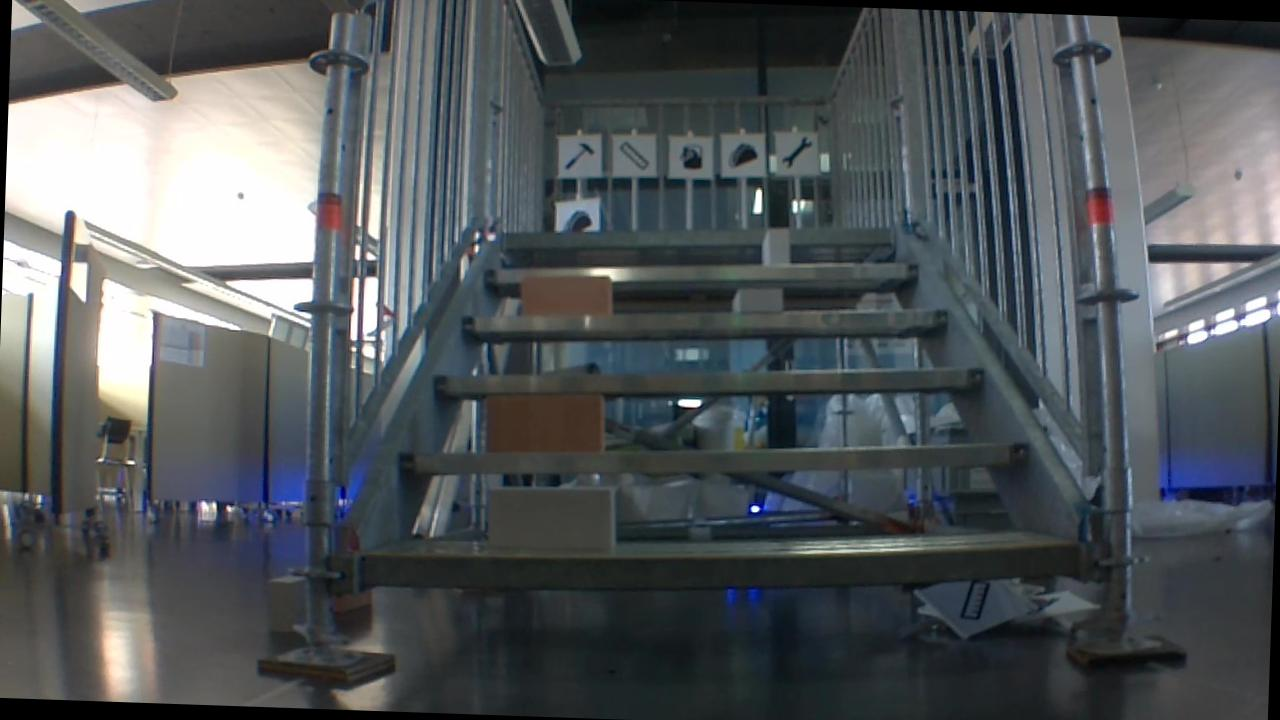brick: (485, 483, 614, 551), (486, 391, 604, 451), (520, 272, 612, 317), (760, 225, 789, 266), (732, 287, 782, 310)
bucket: (673, 140, 707, 172)
edge: (363, 517, 1084, 605), (397, 422, 1031, 490), (435, 346, 990, 410), (462, 289, 952, 346), (485, 248, 920, 291), (505, 214, 893, 254)
hammer: (559, 138, 597, 175)
ruler: (613, 135, 650, 170)
steps: (357, 201, 1104, 610)
taco: (725, 137, 763, 171)
wrench: (779, 131, 815, 170)
